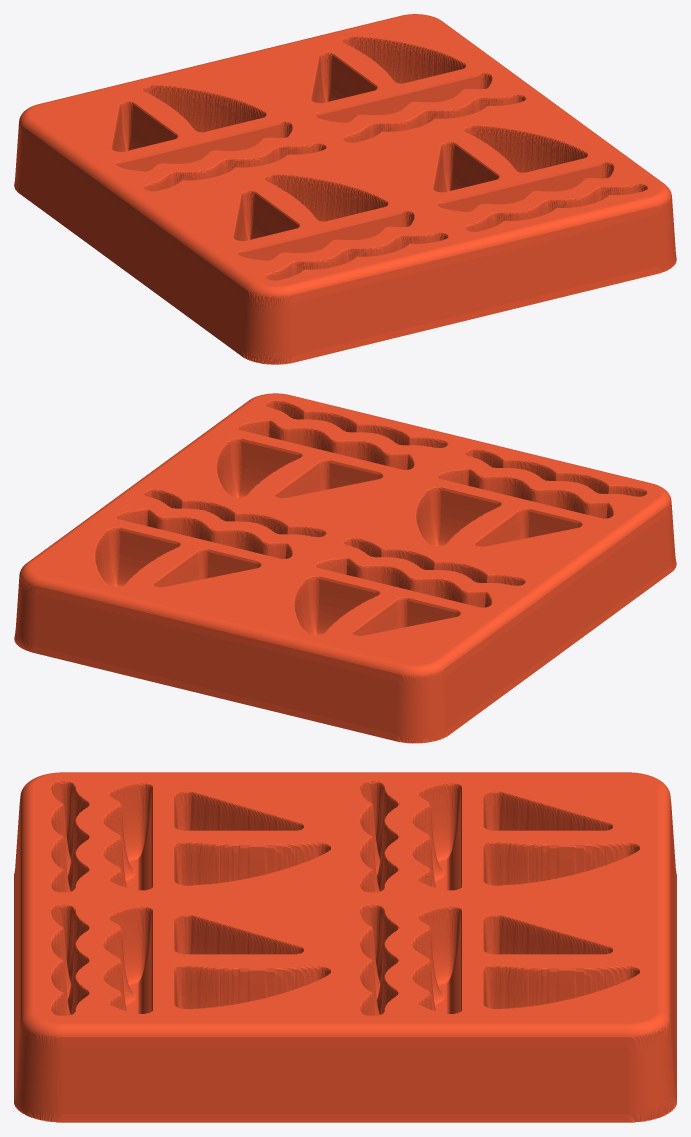
Rendered from mold.glb.
The picture shows the model from 3 angles, top to bottom: view 1: azimuth 30°, elevation 25°; view 2: azimuth 150°, elevation 25°; view 3: azimuth 270°, elevation 25°; orthographic projection. The views are drawn at different scales.
Parts seen in each view (by area): view 1: geometry_0; view 2: geometry_0; view 3: geometry_0.
Part boxes in pixels (bbox=[...]): geometry_0: bbox=[14, 14, 676, 364]; geometry_0: bbox=[14, 393, 676, 743]; geometry_0: bbox=[14, 772, 676, 1122].
Bounding box in the file's own units: 0.1157 × 0.0185 × 0.1218.
